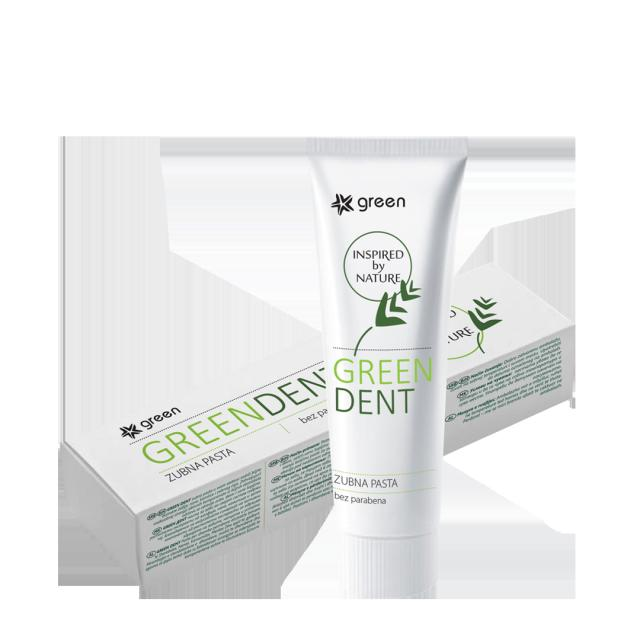toothpaste: (46, 244, 606, 587), (292, 123, 464, 600)
